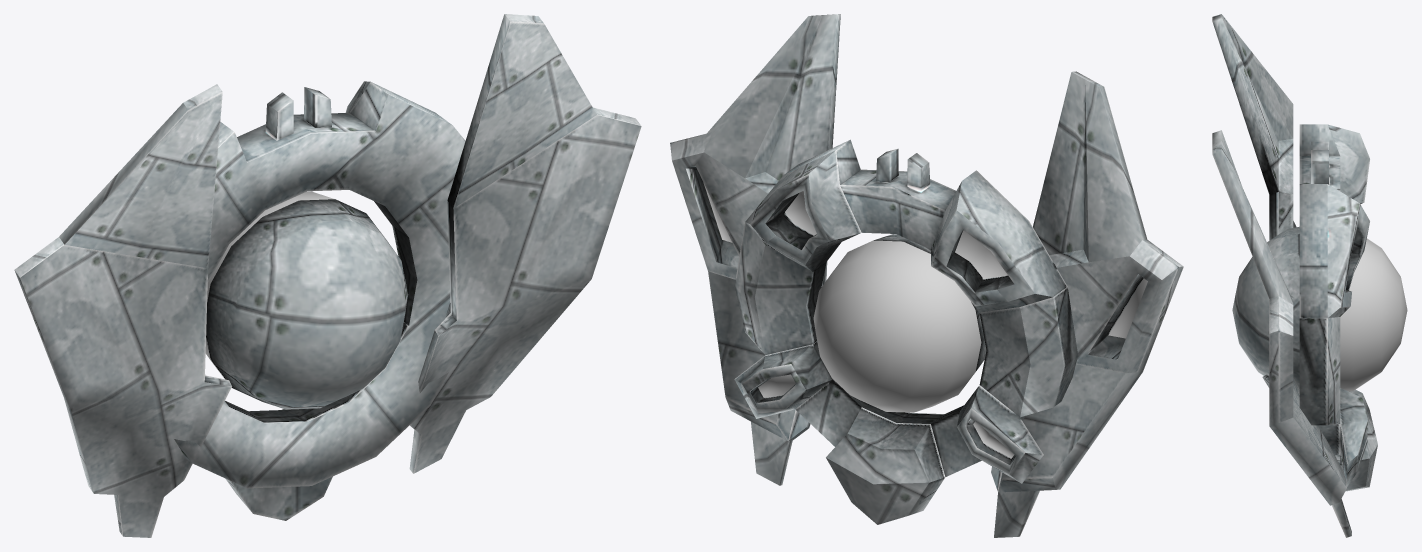
File: Oldship01.fbx
3 views of the same model, side by side, from view 1: azimuth 30°, elevation 25°; view 2: azimuth 150°, elevation 25°; view 3: azimuth 270°, elevation 25° (orthographic). The views are drawn at different scales.
Visible parts, largest first — view 1: flyship03; view 2: flyship03; view 3: flyship03.
Part boxes in pixels (box(x1,y1,x2,y2)): flyship03: box(14, 14, 641, 537); flyship03: box(670, 14, 1183, 537); flyship03: box(1212, 14, 1407, 537).
Size of the model in its own units: 301 by 243 by 103.
